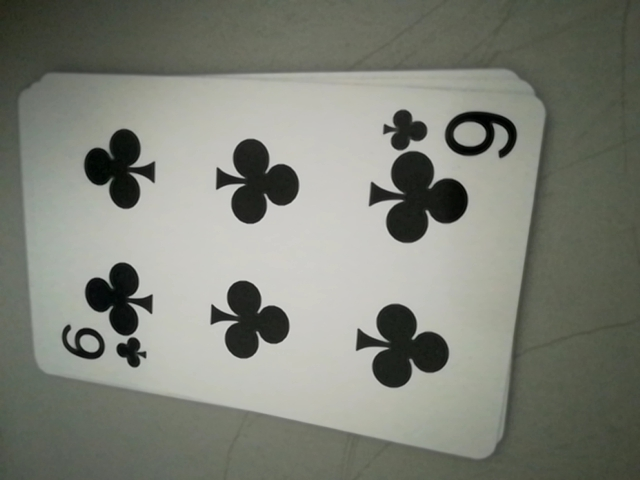mh 6: (379, 103, 519, 159), (54, 324, 151, 376)
